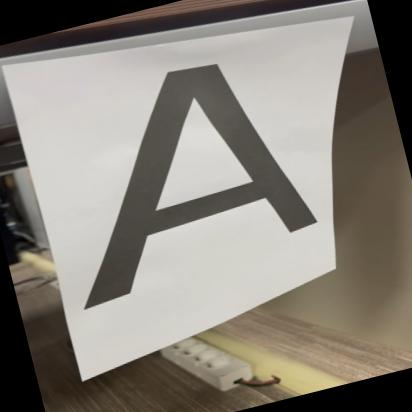seat: (17, 26, 331, 314)
